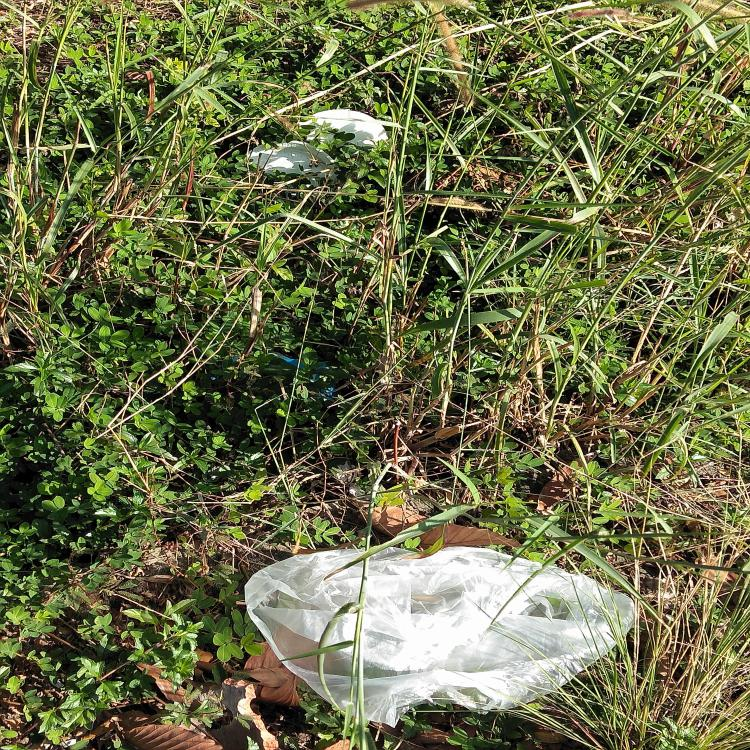Single-use carrier bag: (244, 546, 634, 728)
Unlabeled litter: (312, 110, 388, 146), (276, 356, 335, 398)
